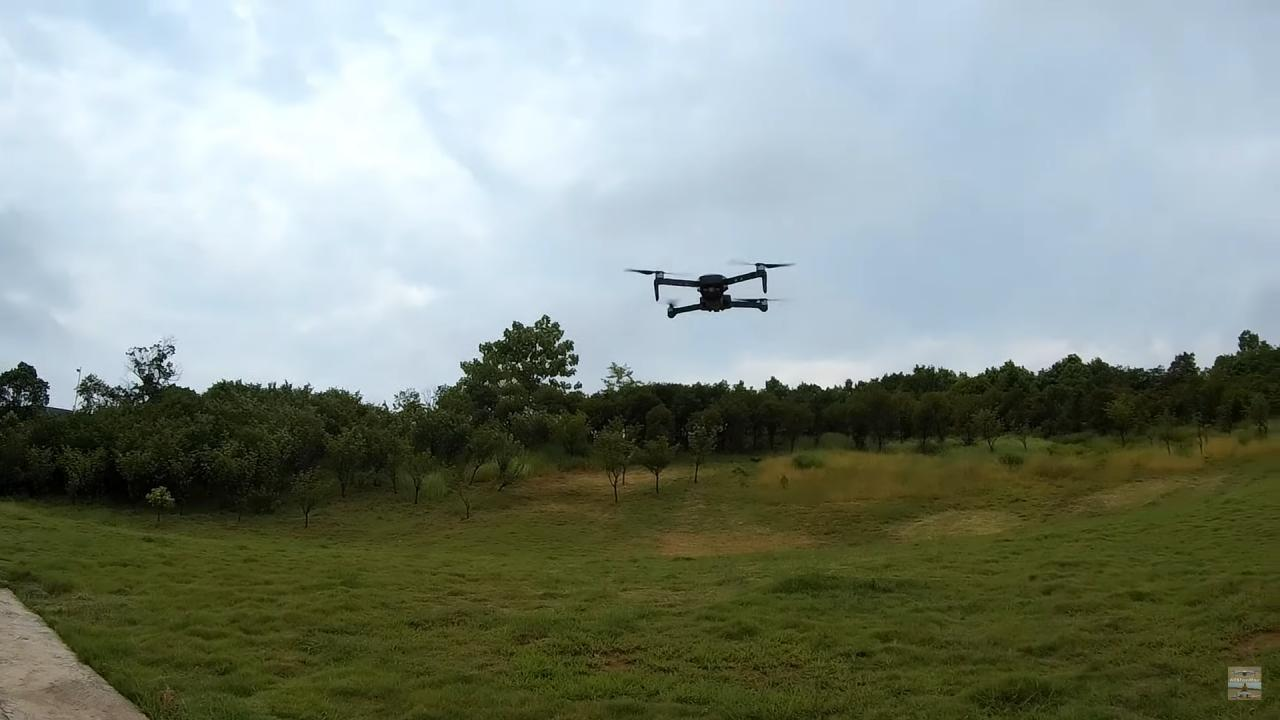Drone: (610, 251, 810, 326)
